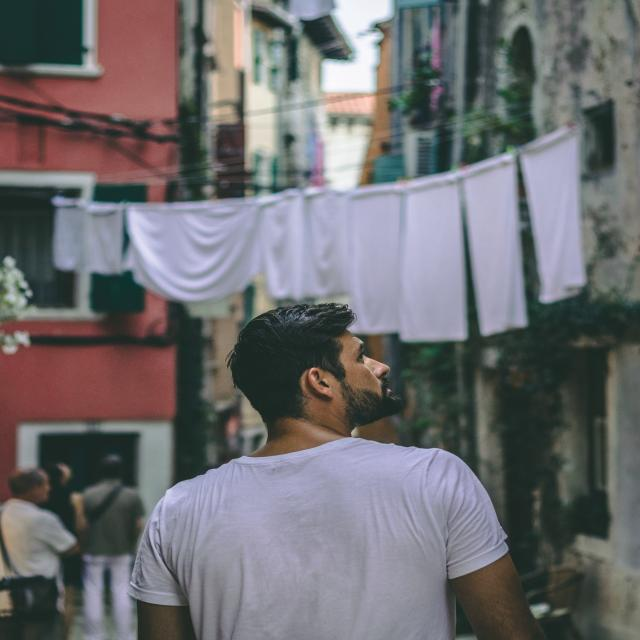adult: (128, 300, 538, 640)
